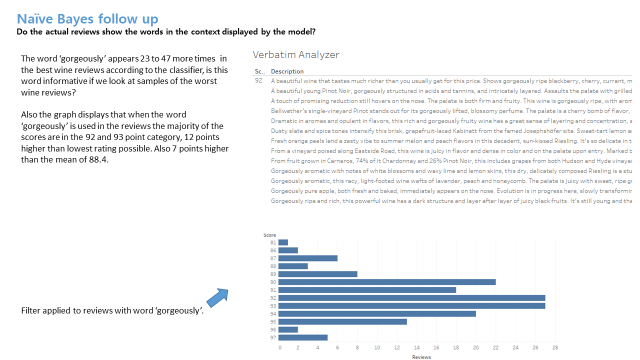

The page's visual inventory and layout, read from the dashboard file:
{"tool":"tableau","page":{"name":"Dashboard 1","canvas":[1000,800],"ordinal":0},"visuals":[{"type":"worksheet","title":"Verbatim","mark":"Automatic","rows":["Points (copy)","description"],"cols":["points"],"box":[12,30,333,197]},{"type":"filter","title":"Verbatim","param":"[federated.0apkvcx1ub046j0zuu3tv02vq2dg].[none:Points (copy):nk]","box":[345,30,160,442]},{"type":"filter","title":"Verbatim","param":"[federated.0apkvcx1ub046j0zuu3tv02vq2dg].[none:description:nk]","box":[360,45,160,44]},{"type":"highlighter","title":"Verbatim","param":"[federated.0apkvcx1ub046j0zuu3tv02vq2dg].[none:description:nk]","box":[375,60,160,197]},{"type":"worksheet","title":"VerbatimCounts","mark":"Automatic","rows":["Points (copy)"],"cols":["Description (copy)"],"box":[74,304,333,197]},{"type":"filter","title":"VerbatimCounts","param":"[federated.0apkvcx1ub046j0zuu3tv02vq2dg].[none:Points (copy):nk]","box":[407,304,160,442]},{"type":"filter","title":"VerbatimCounts","param":"[federated.0apkvcx1ub046j0zuu3tv02vq2dg].[none:description:nk]","box":[422,319,160,44]}]}

Visuals, with their boxes on the page's 1000x800 design canvas (x1, y1, x2, y2). These are canvas units, not pixel positions in the 640x360 screenshot, which may show the page scaled, cropped or inside an application window:
"Verbatim" worksheet: (12, 30, 345, 227)
"Verbatim" filter: (345, 30, 505, 472)
"Verbatim" filter: (360, 45, 520, 89)
"Verbatim" highlighter: (375, 60, 535, 257)
"VerbatimCounts" worksheet: (74, 304, 407, 501)
"VerbatimCounts" filter: (407, 304, 567, 746)
"VerbatimCounts" filter: (422, 319, 582, 363)
